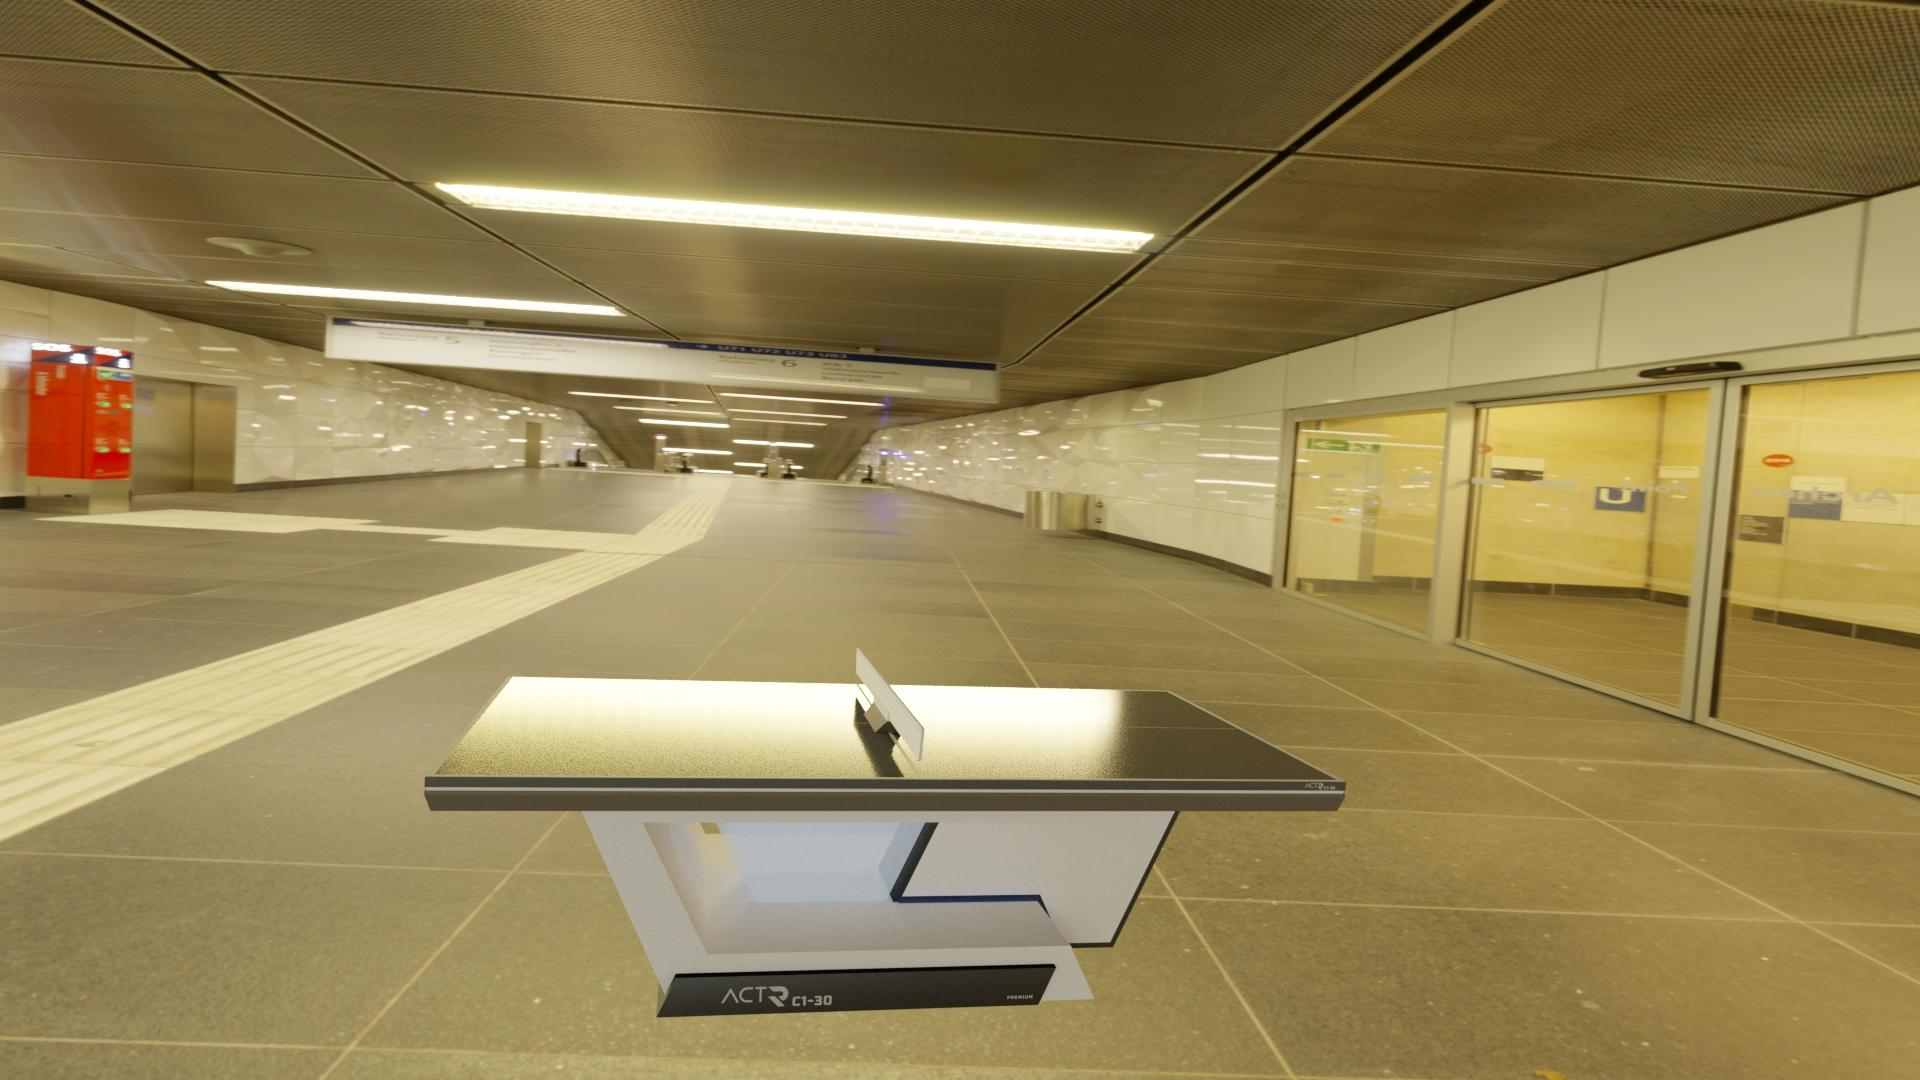table: (434, 678, 1337, 779)
